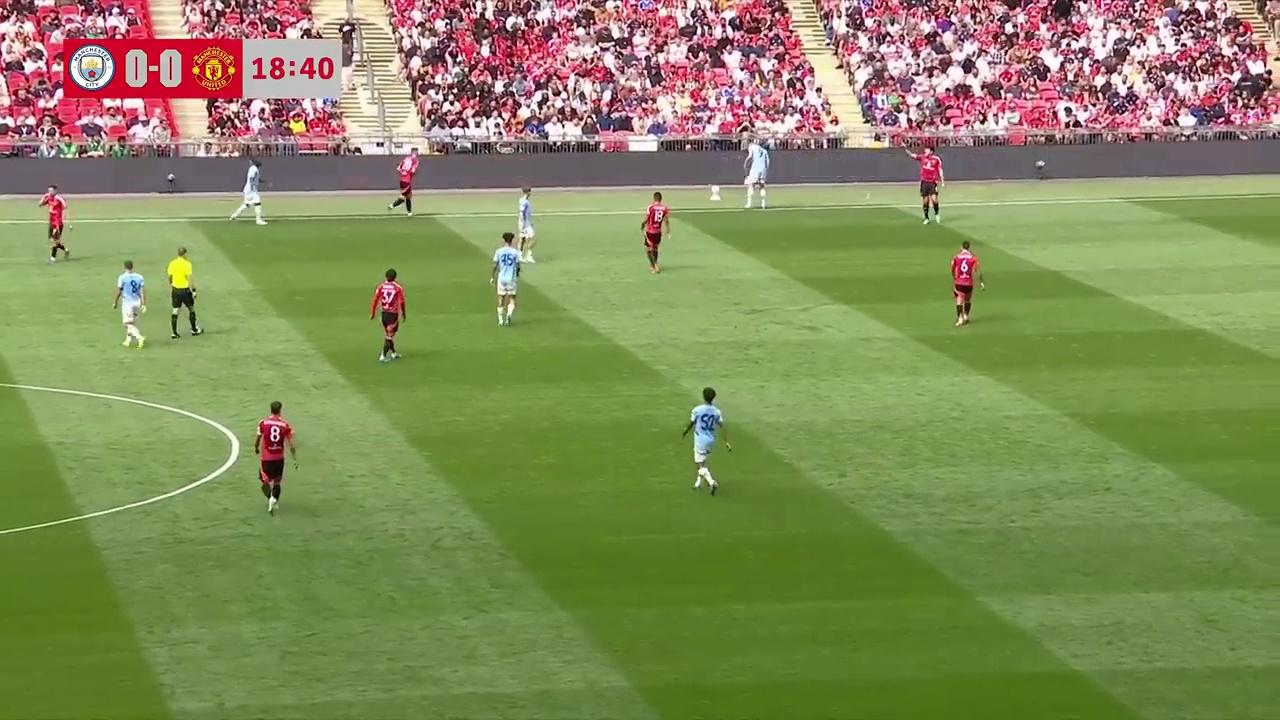player: (252, 400, 296, 514), (680, 388, 725, 494), (369, 268, 406, 363), (111, 260, 149, 350), (490, 232, 521, 327), (950, 241, 984, 327), (908, 141, 942, 224), (641, 192, 670, 274), (390, 144, 423, 216), (39, 186, 70, 262), (231, 161, 266, 225), (743, 143, 768, 209), (516, 187, 537, 262)
referee: (166, 246, 202, 337)
